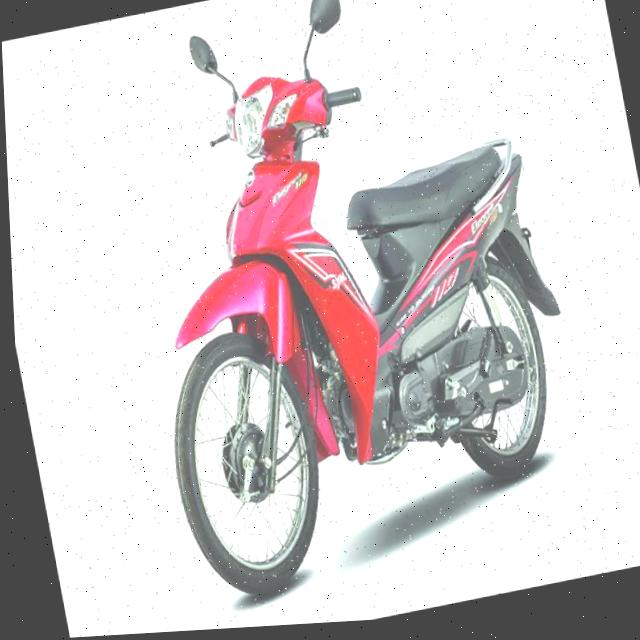motorcycle: (82, 0, 617, 629)
